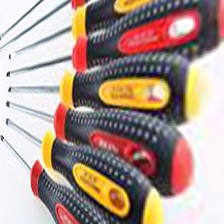screwdriver: (1, 1, 210, 224)
